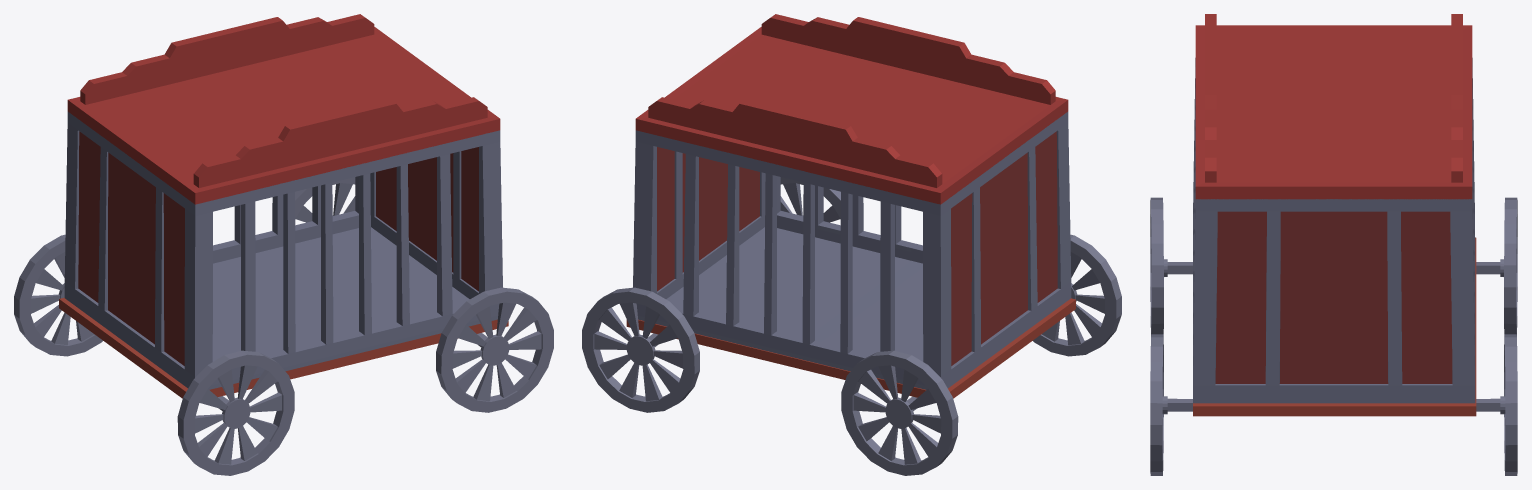
Rendered from elainhakki.fbx.
The picture shows the model from 3 angles, left to right: view 1: azimuth 30°, elevation 25°; view 2: azimuth 150°, elevation 25°; view 3: azimuth 270°, elevation 25°; orthographic projection. The views are drawn at different scales.
Visible parts, largest first — view 1: häkki, häkki yläosa, renkaat, häkki sivut, alusta; view 2: häkki, häkki yläosa, renkaat, häkki sivut, alusta; view 3: häkki yläosa, häkki sivut, häkki, renkaat, alusta.
Part boxes in pixels (left/top/right/bottom): häkki: left=64, top=111, right=502, bottom=389; häkki yläosa: left=67, top=14, right=500, bottom=204; renkaat: left=14, top=177, right=553, bottom=475; häkki sivut: left=78, top=131, right=478, bottom=365; alusta: left=59, top=297, right=508, bottom=398; häkki: left=633, top=111, right=1071, bottom=389; häkki yläosa: left=635, top=14, right=1068, bottom=204; renkaat: left=582, top=177, right=1121, bottom=475; häkki sivut: left=657, top=131, right=1057, bottom=365; alusta: left=626, top=298, right=1075, bottom=398; häkki yläosa: left=1195, top=14, right=1472, bottom=199; häkki sivut: left=1215, top=211, right=1452, bottom=383; häkki: left=1193, top=58, right=1475, bottom=403; renkaat: left=1150, top=197, right=1517, bottom=475; alusta: left=1193, top=237, right=1476, bottom=416.
Bounding box in the file's own units: 486 × 385 × 385.
